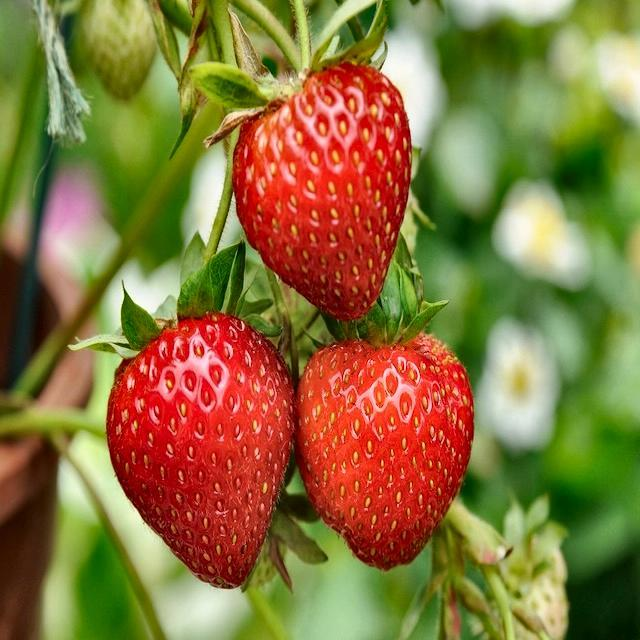strawberry: (106, 312, 294, 588), (232, 62, 411, 320), (296, 334, 474, 570)
